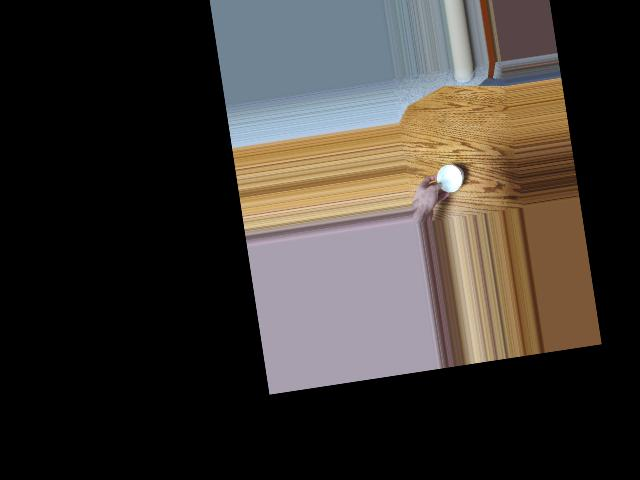cotage: (429, 156, 466, 196)
